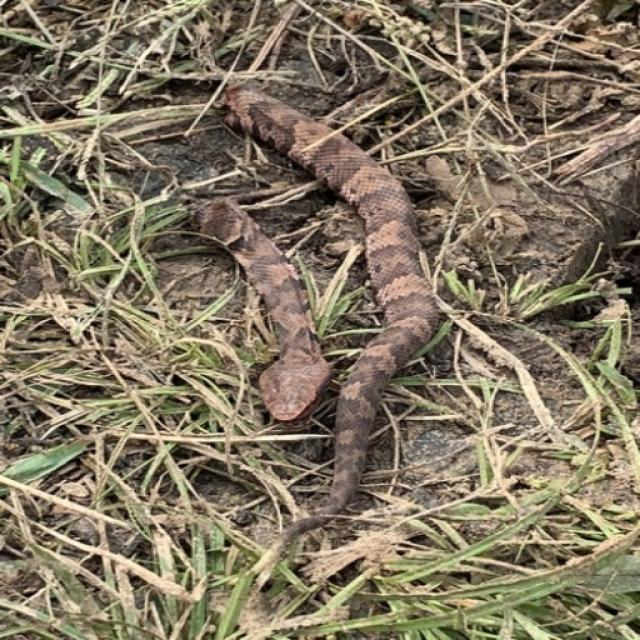snake: (188, 59, 460, 521)
